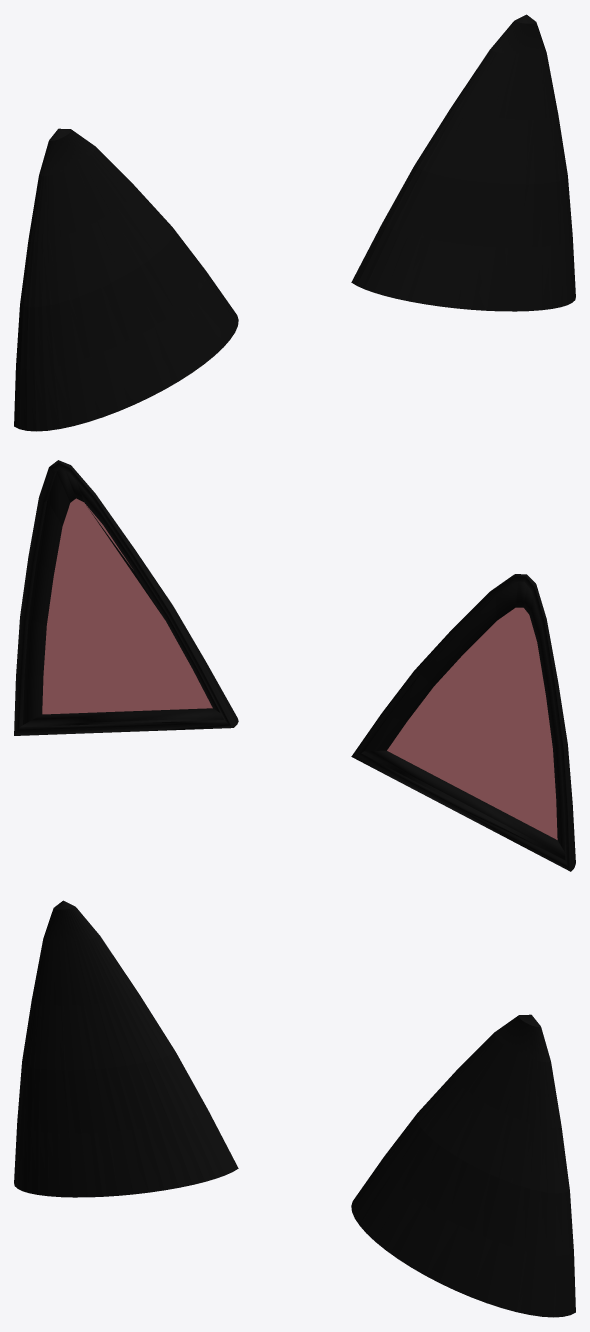
Rendered from RoblomanEars.fbx.
3 views of the same model, one above another, from view 1: azimuth 30°, elevation 25°; view 2: azimuth 150°, elevation 25°; view 3: azimuth 330°, elevation 25° (orthographic).
Visible parts, largest first — view 1: RoblomanEarsObject0; view 2: RoblomanEarsObject0; view 3: RoblomanEarsObject0.
Boxes of the visible parts, <box> form: RoblomanEarsObject0: <box>14,14,575,431</box>; RoblomanEarsObject0: <box>14,460,575,871</box>; RoblomanEarsObject0: <box>14,900,575,1317</box>.
Bounding box in the file's own units: 1.05 × 0.1097 × 0.516.
